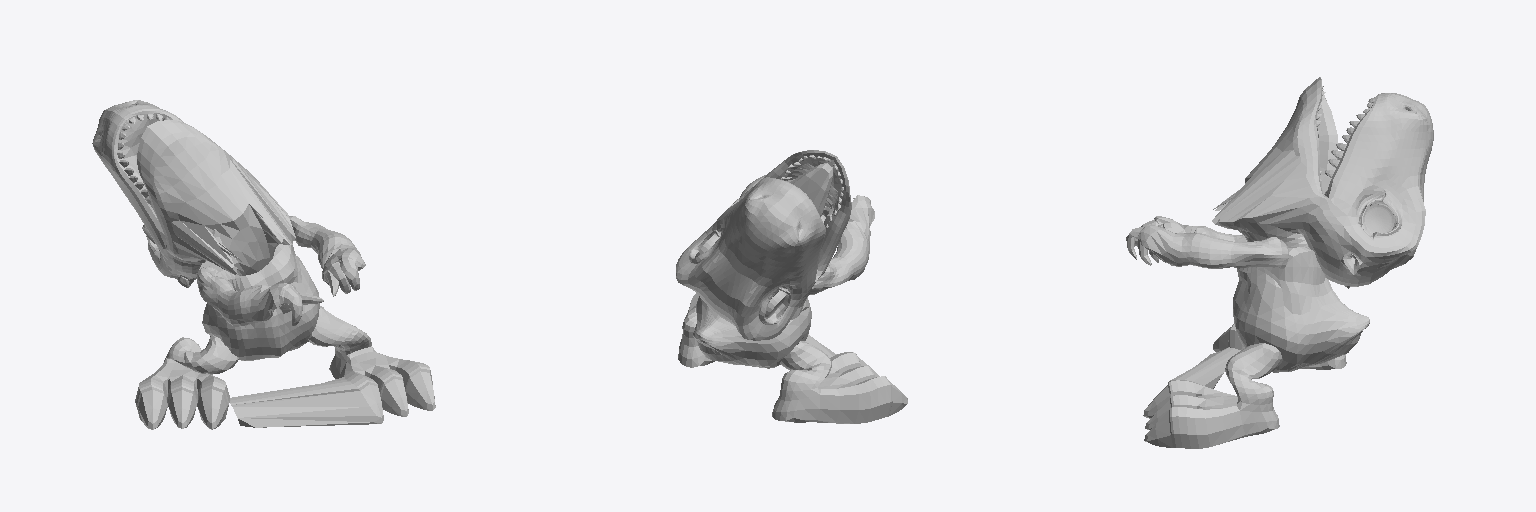
File: dino_attack_000032.obj
The picture shows the model from 3 angles: view 1: azimuth 30°, elevation 25°; view 2: azimuth 150°, elevation 25°; view 3: azimuth 270°, elevation 25°; orthographic projection.
Visible parts, largest first — view 1: Plane.003_head.001_Plane.003_headmesh.001, Cube.002_rightleg.001_Cube.002_rightlegmesh.001, Cube.003_rightleg.001_Cube.003_rightlegmesh.001, Cube_body.001_Cube_bodymesh.001, Cube.004_leftarm.000_Cube.004_leftarm.001mesh.001, Cube.001_leftarm.001_Cube.001_leftarmmesh.001, Cube.005_upperteeth.001_Cube.005_upperteethmesh.001; view 2: Plane.003_head.001_Plane.003_headmesh.001, Cube.003_rightleg.001_Cube.003_rightlegmesh.001, Cube_body.001_Cube_bodymesh.001, Cube.004_leftarm.000_Cube.004_leftarm.001mesh.001, Cube.002_rightleg.001_Cube.002_rightlegmesh.001, Cube.007_Cube.000_Cube.007_Cube.001mesh.001; view 3: Plane.003_head.001_Plane.003_headmesh.001, Cube_body.001_Cube_bodymesh.001, Cube.002_rightleg.001_Cube.002_rightlegmesh.001, Cube.001_leftarm.001_Cube.001_leftarmmesh.001, Cube.007_Cube.000_Cube.007_Cube.001mesh.001, Cube.004_leftarm.000_Cube.004_leftarm.001mesh.001, Cube.003_rightleg.001_Cube.003_rightlegmesh.001, Sphere_righteye.001_Sphere_righteyemesh.001.
Part boxes in pixels (bbox=[...]): Plane.003_head.001_Plane.003_headmesh.001: bbox=[92, 100, 295, 287]; Cube.002_rightleg.001_Cube.002_rightlegmesh.001: bbox=[230, 306, 435, 427]; Cube.003_rightleg.001_Cube.003_rightlegmesh.001: bbox=[135, 334, 238, 429]; Cube_body.001_Cube_bodymesh.001: bbox=[197, 244, 319, 360]; Cube.004_leftarm.000_Cube.004_leftarm.001mesh.001: bbox=[197, 266, 323, 326]; Cube.001_leftarm.001_Cube.001_leftarmmesh.001: bbox=[289, 216, 365, 296]; Cube.005_upperteeth.001_Cube.005_upperteethmesh.001: bbox=[117, 114, 169, 207]; Plane.003_head.001_Plane.003_headmesh.001: bbox=[676, 150, 851, 340]; Cube.003_rightleg.001_Cube.003_rightlegmesh.001: bbox=[772, 341, 907, 423]; Cube_body.001_Cube_bodymesh.001: bbox=[693, 287, 813, 368]; Cube.004_leftarm.000_Cube.004_leftarm.001mesh.001: bbox=[809, 195, 874, 294]; Cube.002_rightleg.001_Cube.002_rightlegmesh.001: bbox=[678, 293, 836, 367]; Cube.007_Cube.000_Cube.007_Cube.001mesh.001: bbox=[790, 163, 832, 220]; Plane.003_head.001_Plane.003_headmesh.001: bbox=[1212, 77, 1433, 288]; Cube_body.001_Cube_bodymesh.001: bbox=[1233, 247, 1369, 372]; Cube.002_rightleg.001_Cube.002_rightlegmesh.001: bbox=[1143, 343, 1282, 448]; Cube.001_leftarm.001_Cube.001_leftarmmesh.001: bbox=[1126, 224, 1288, 268]; Cube.007_Cube.000_Cube.007_Cube.001mesh.001: bbox=[1316, 95, 1337, 194]; Cube.004_leftarm.000_Cube.004_leftarm.001mesh.001: bbox=[1137, 216, 1246, 262]; Cube.003_rightleg.001_Cube.003_rightlegmesh.001: bbox=[1213, 323, 1346, 369]; Sphere_righteye.001_Sphere_righteyemesh.001: bbox=[1365, 203, 1395, 233].
Bounding box in the file's own units: 8.27 × 8.83 × 8.88.